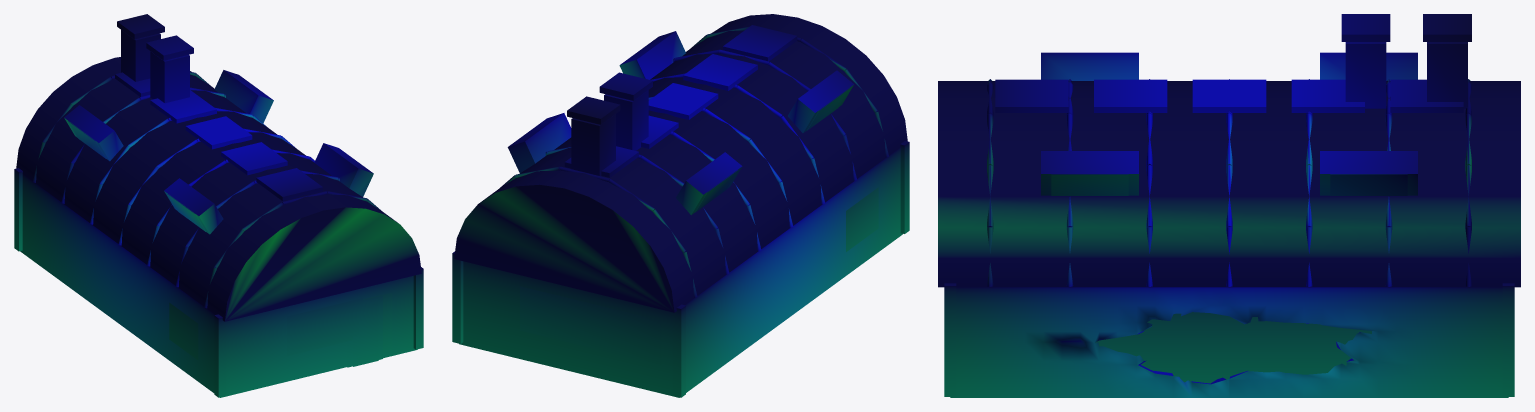
The model's file is singlecivlivingb_damaged.glb.
3 views of the same model, side by side, from view 1: azimuth 30°, elevation 25°; view 2: azimuth 150°, elevation 25°; view 3: azimuth 270°, elevation 25° (orthographic). The views are drawn at different scales.
Parts seen in each view (by area): view 1: lod0; view 2: lod0; view 3: lod0.
Boxes of the visible parts, x1=… form: lod0: x1=14, y1=14, x2=423, y2=397; lod0: x1=452, y1=14, x2=909, y2=397; lod0: x1=938, y1=14, x2=1520, y2=397.
Size of what is drawn, in the model's own units: 8.1 by 8.3 by 14.3.
